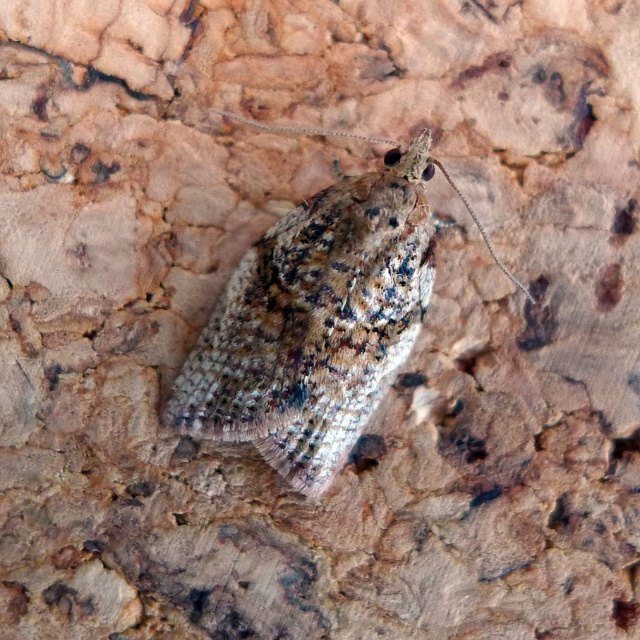Moths and butterflies: (156, 107, 543, 507)
